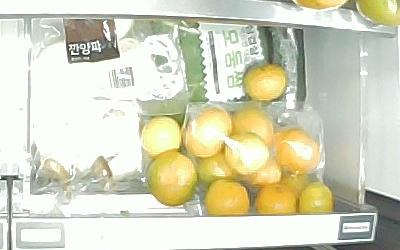tangerine: (144, 151, 196, 205), (242, 63, 289, 102), (203, 180, 251, 217), (140, 115, 181, 156), (252, 183, 299, 215), (299, 181, 336, 215)
tangerine_vinyl: (182, 105, 232, 159), (273, 129, 322, 177), (223, 133, 270, 176), (232, 106, 275, 149), (197, 152, 239, 183), (235, 164, 283, 186)
